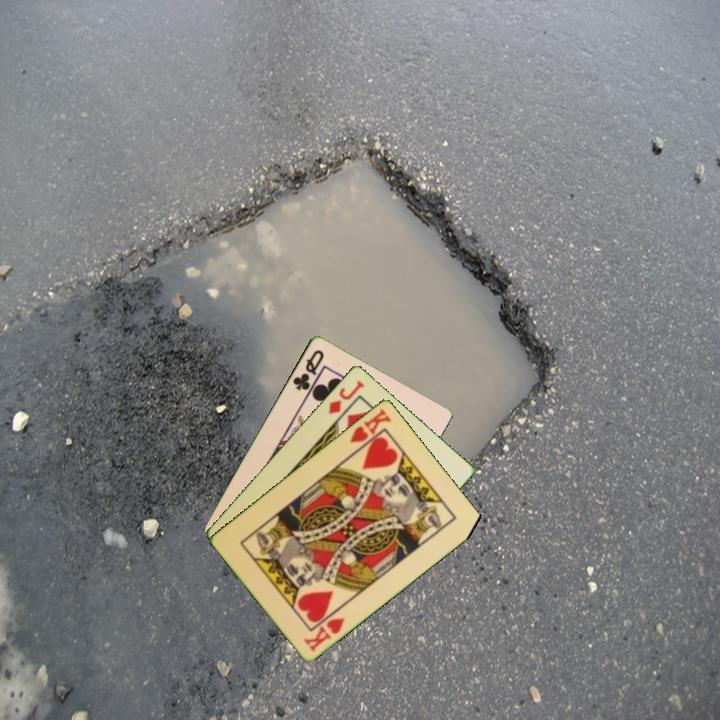Jd: (325, 376, 367, 417)
Kh: (346, 404, 394, 454), (300, 613, 348, 654)
Qc: (289, 346, 327, 393)
